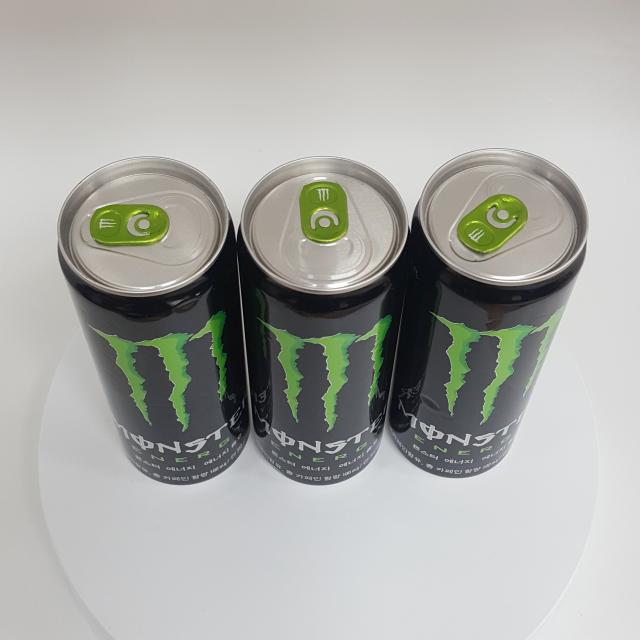--------355ML: (387, 147, 589, 479), (57, 155, 250, 485), (235, 156, 413, 485)
